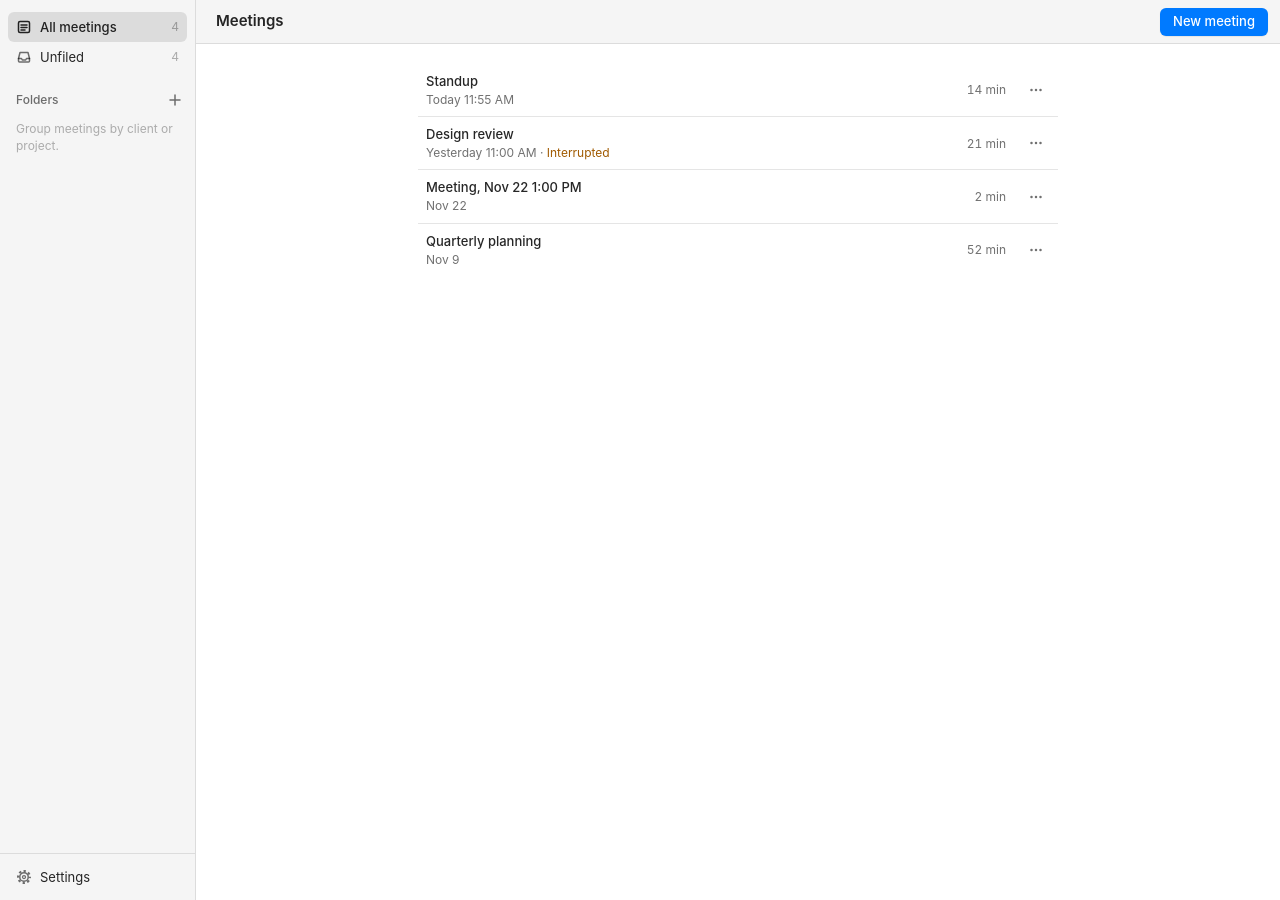
an older meeting is not the live one: the link stays
What coordinates should you click on to do the following:
click the button "New meeting"
I would click on:
 (1214, 22)
Its box is [1160, 8, 1268, 36].
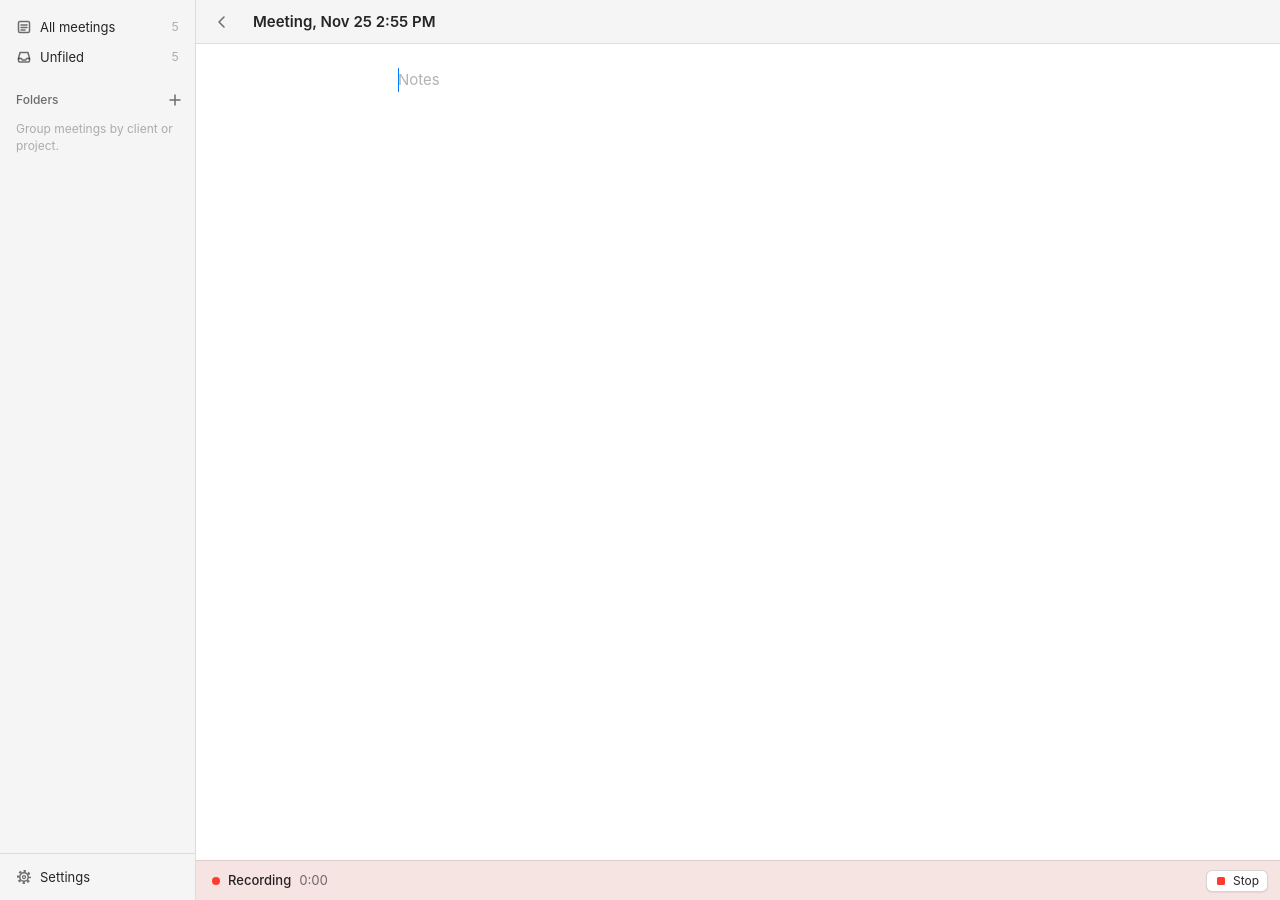
What coordinates should you click on to do the following:
click the button named "Back"
I would click on:
 (222, 22)
Its box is [208, 8, 236, 36].
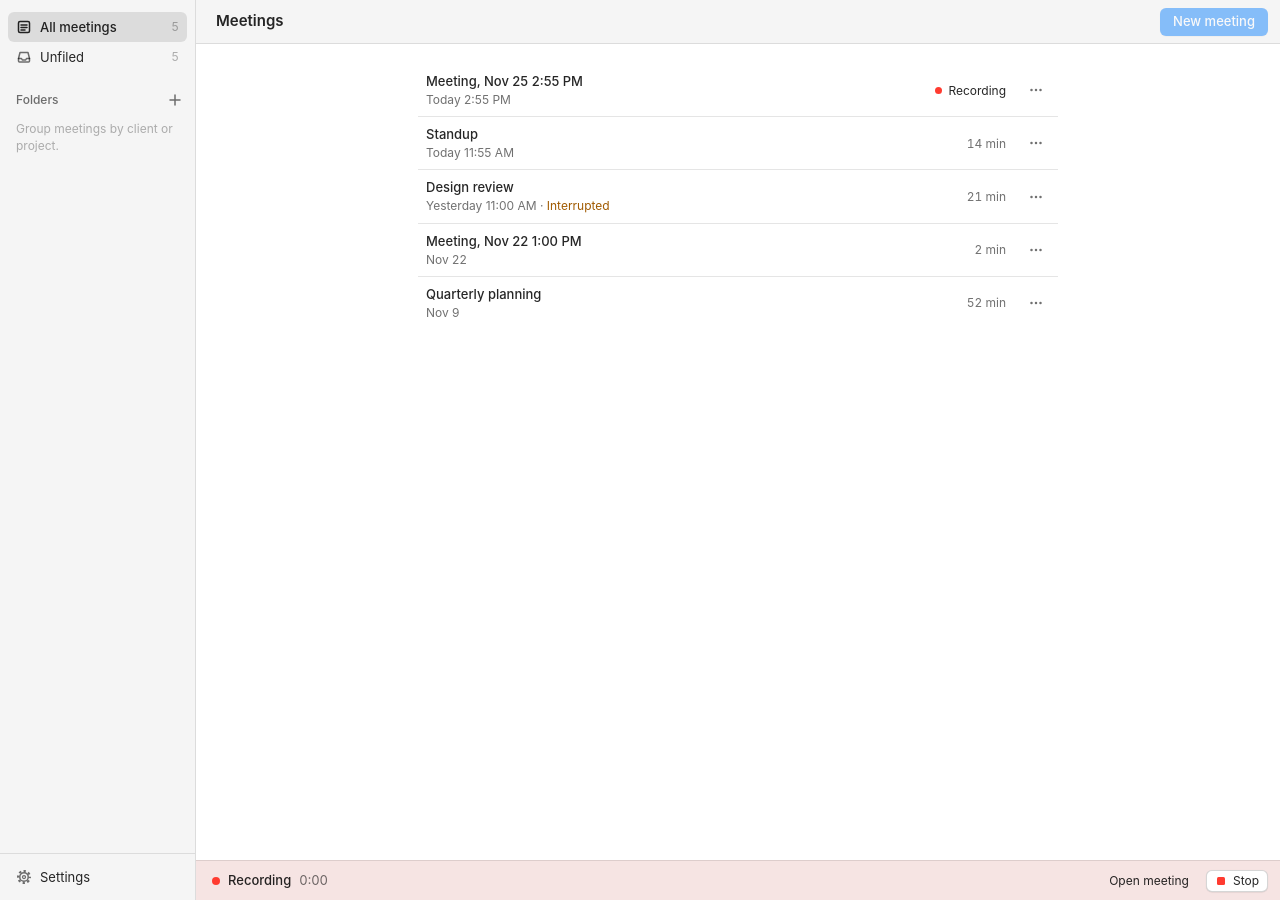
What coordinates should you click on to do the following:
click the button "Standup Today 11:55 AM 14 min"
I would click on:
 (452, 134)
Its box is [418, 117, 1014, 169].
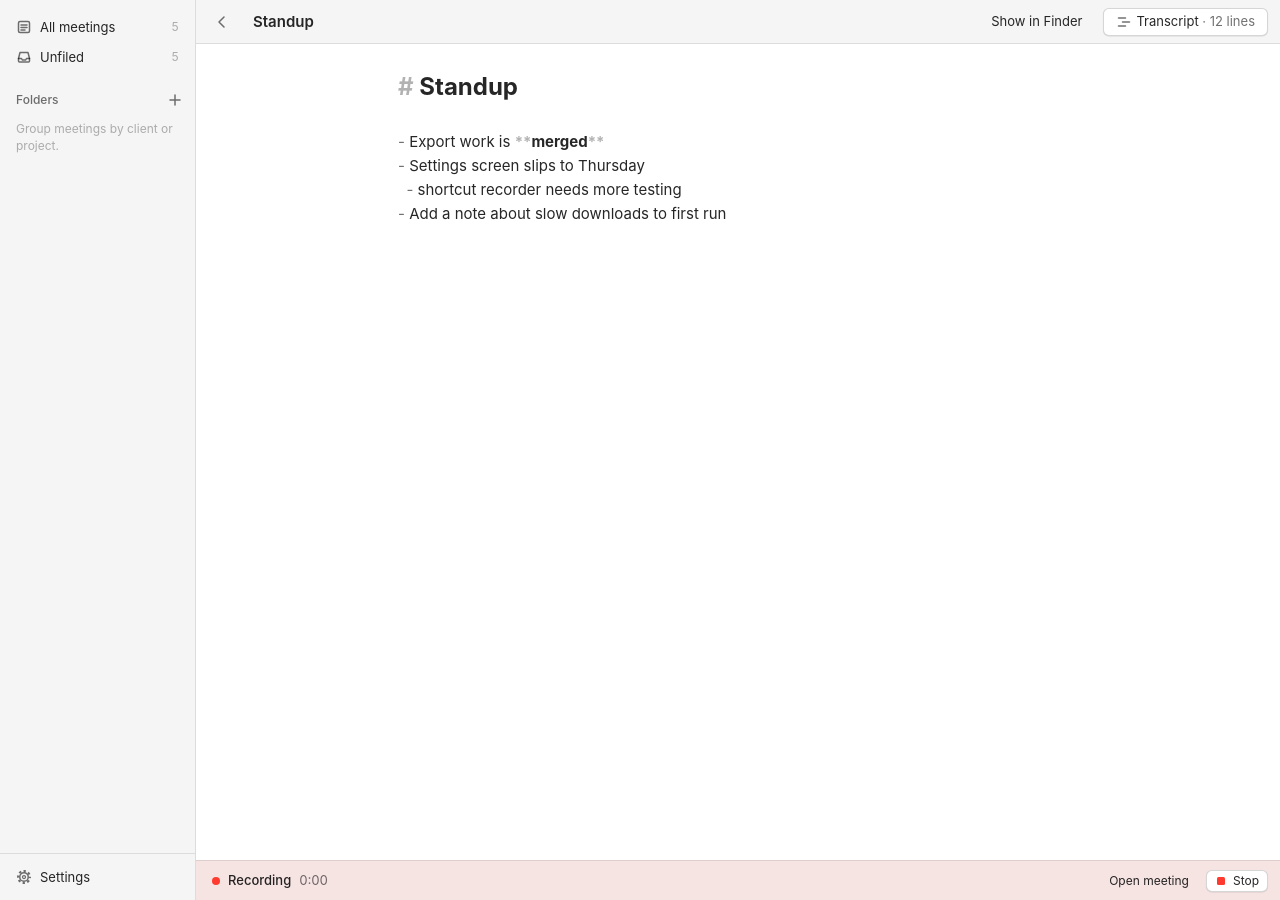
Check: the button "Open meeting" is shown, box [1100, 870, 1198, 892]
Check: the heading named "Standup" is shown, box [244, 8, 644, 36]
